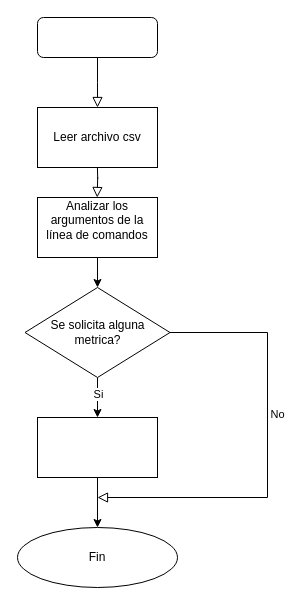
This 302x605 diagram has some shape labels left out. Each missing label, with the centre of its shape:
"Ejecutar metrica solicitada" belongs at pixel 97 447.
"Inicio" belongs at pixel 97 37.
